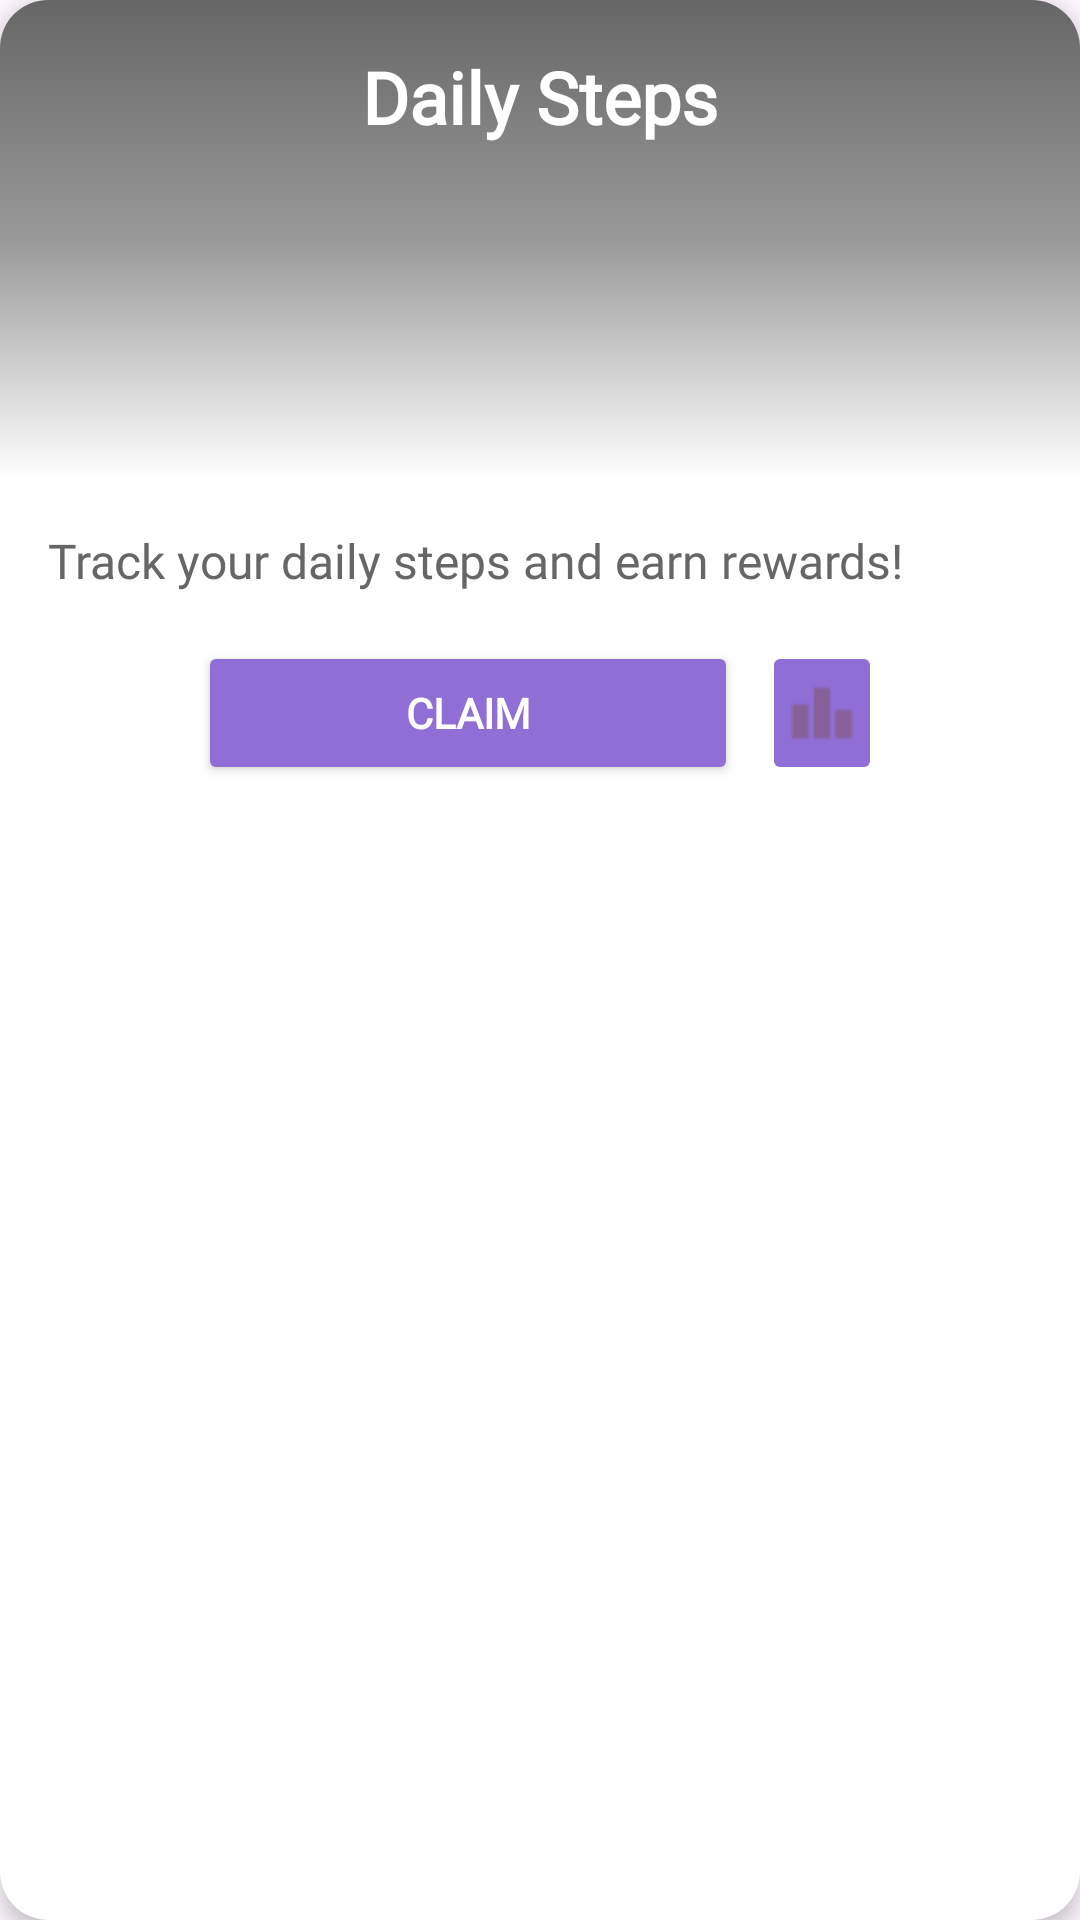

Icons on this 1080w x 1920h Android screen, each with its box as detection(x1, y1, x2, y2):
leaderboard: detection(774, 659, 870, 767)
